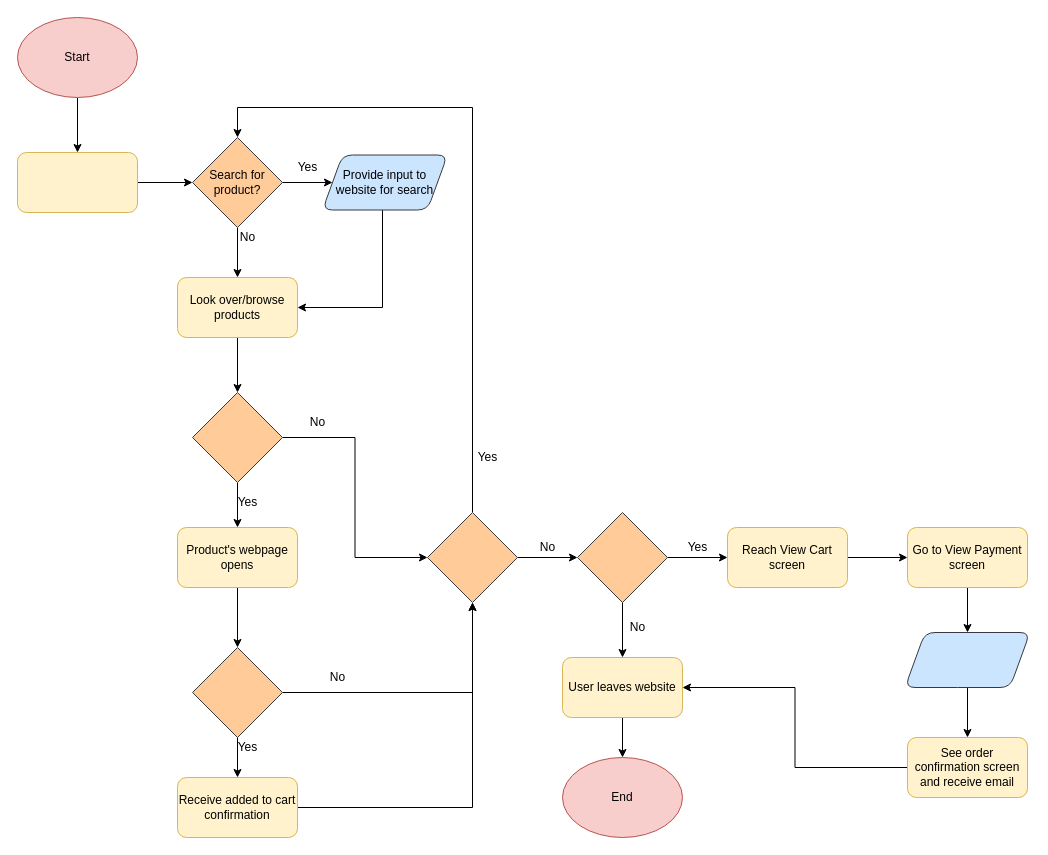
Image size: 1048x855. Some labels were removed from this diagram. The shapes that lost their labels are listed below. From the top down, each one's box as (x1, y1, x2, y2) in pixels, then its label:
(16, 152, 138, 212): User enters website
(192, 392, 282, 482): View specific product?
(426, 512, 518, 602): Continue shopping?
(576, 512, 668, 602): Checkout?
(904, 632, 1030, 688): Input payment information
(192, 646, 282, 738): Add item to cart?
